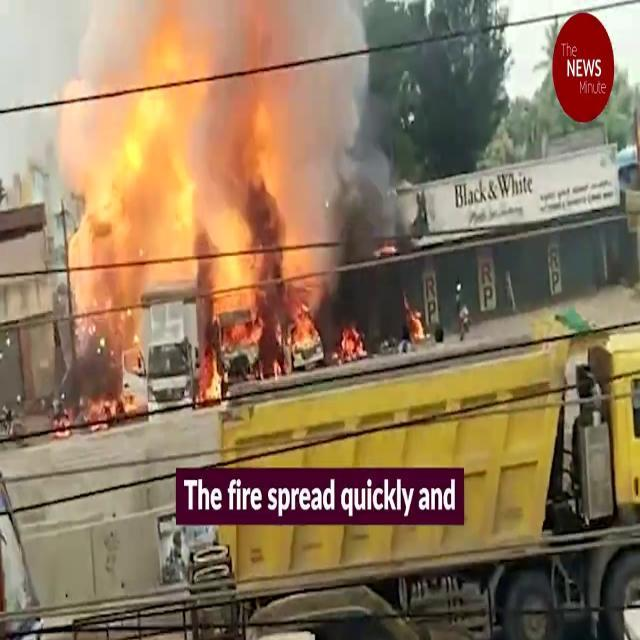Fire: (73, 7, 313, 365)
Smoke: (248, 0, 388, 326)
